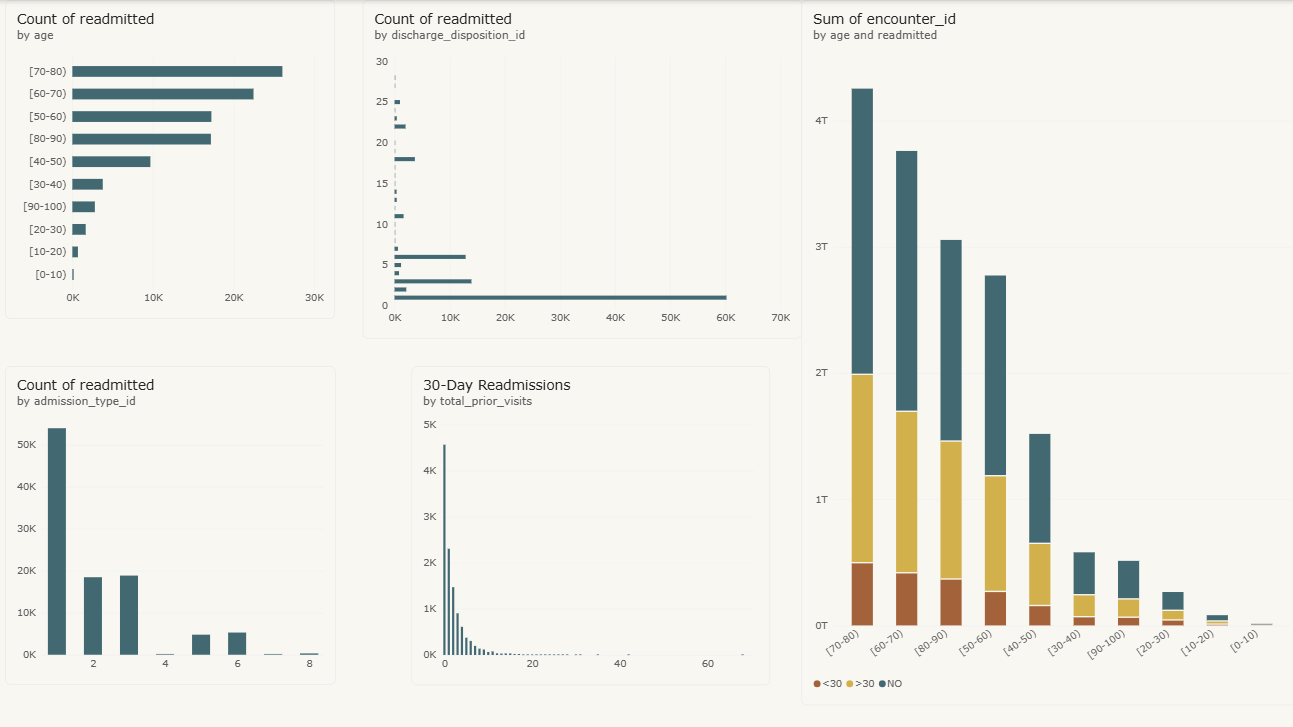

Layout of this report page (visuals, bound fields, positions):
{"tool":"powerbi","page":{"name":"Readmission Analysis","canvas":[1920,1080],"ordinal":1},"visuals":[{"type":"barChart","fields":{"Category":["diabetic_data_cleaned.age"],"Y":["CountNonNull(diabetic_data_cleaned.readmitted)"]},"box":[9.2,0,485.9,469.3],"z":0},{"type":"columnChart","fields":{"Category":["diabetic_data_cleaned.admission_type_id"],"Y":["CountNonNull(diabetic_data_cleaned.readmitted)"]},"box":[9.2,539.3,486,469],"z":1},{"type":"barChart","fields":{"Category":["diabetic_data_cleaned.discharge_disposition_id"],"Y":["CountNonNull(diabetic_data_cleaned.readmitted)"]},"box":[535.6,0,646,498.8],"z":2},{"type":"columnChart","fields":{"Category":["diabetic_data_cleaned.total_prior_visits"],"Y":["diabetic_data_cleaned.30-Day Readmissions"]},"box":[607.4,539.3,528.2,469.3],"z":3},{"type":"columnChart","fields":{"Category":["diabetic_data_cleaned.age"],"Series":["diabetic_data_cleaned.readmitted"],"Y":["Sum(diabetic_data_cleaned.encounter_id)"]},"box":[1181.6,0,738,1038],"z":4}]}

Visuals, with their boxes in screenshot pixels (x1, y1, x2, y2), scaled from the page's 1920x1080 canvas onto the 1293x727 screenshot:
barChart - diabetic_data_cleaned.age x CountNonNull(diabetic_data_cleaned.readmitted): region(6, 0, 333, 316)
columnChart - diabetic_data_cleaned.admission_type_id x CountNonNull(diabetic_data_cleaned.readmitted): region(6, 363, 333, 679)
barChart - diabetic_data_cleaned.discharge_disposition_id x CountNonNull(diabetic_data_cleaned.readmitted): region(361, 0, 796, 336)
columnChart - diabetic_data_cleaned.total_prior_visits x diabetic_data_cleaned.30-Day Readmissions: region(409, 363, 765, 679)
columnChart - diabetic_data_cleaned.age x diabetic_data_cleaned.readmitted: region(796, 0, 1292, 699)
